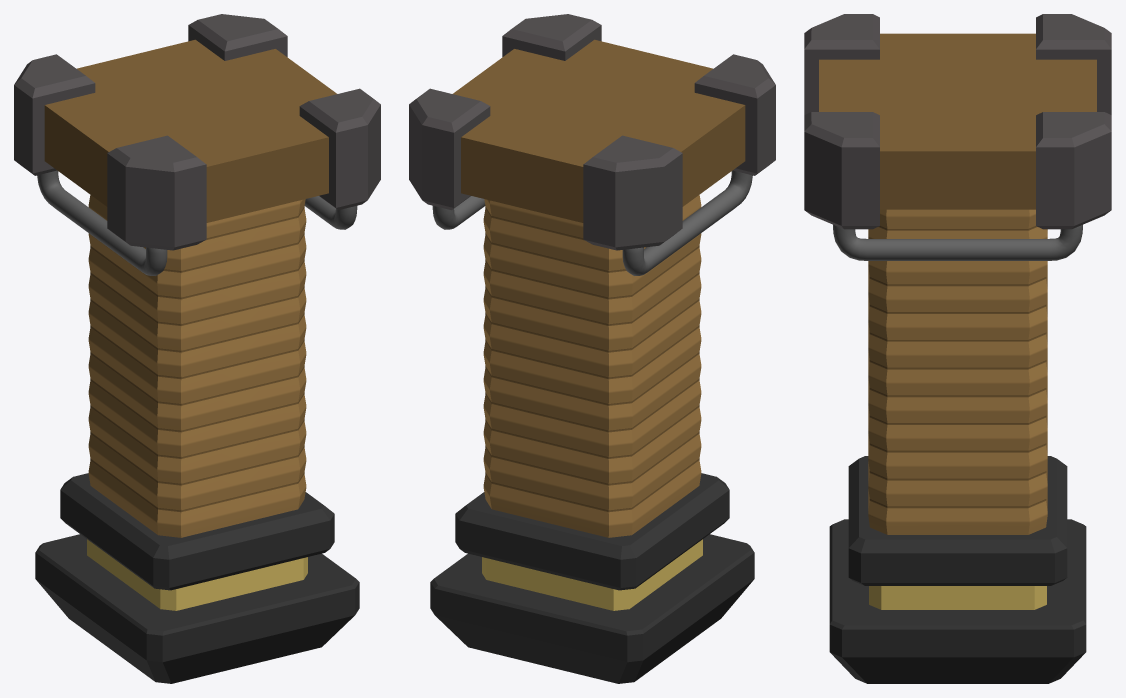
File: a2_piston.fbx
3 renders of one model, left to right at view 1: azimuth 30°, elevation 25°; view 2: azimuth 150°, elevation 25°; view 3: azimuth 270°, elevation 25°, orthographic. The views are drawn at different scales.
Parts seen in each view (by area): view 1: polySurface269; view 2: polySurface269; view 3: polySurface269.
Boxes of the visible parts, left/top/right/bottom form: polySurface269: left=14, top=14, right=380, bottom=683; polySurface269: left=409, top=14, right=775, bottom=683; polySurface269: left=804, top=14, right=1111, bottom=683.
Size of the model in its own units: 3.94 by 7.99 by 3.94.
